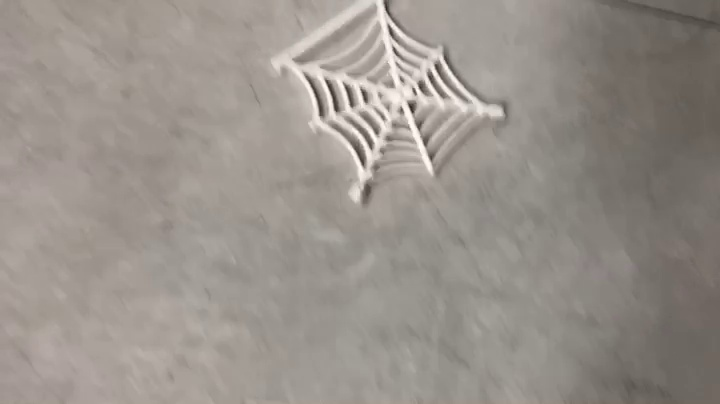web: (269, 1, 510, 207)
